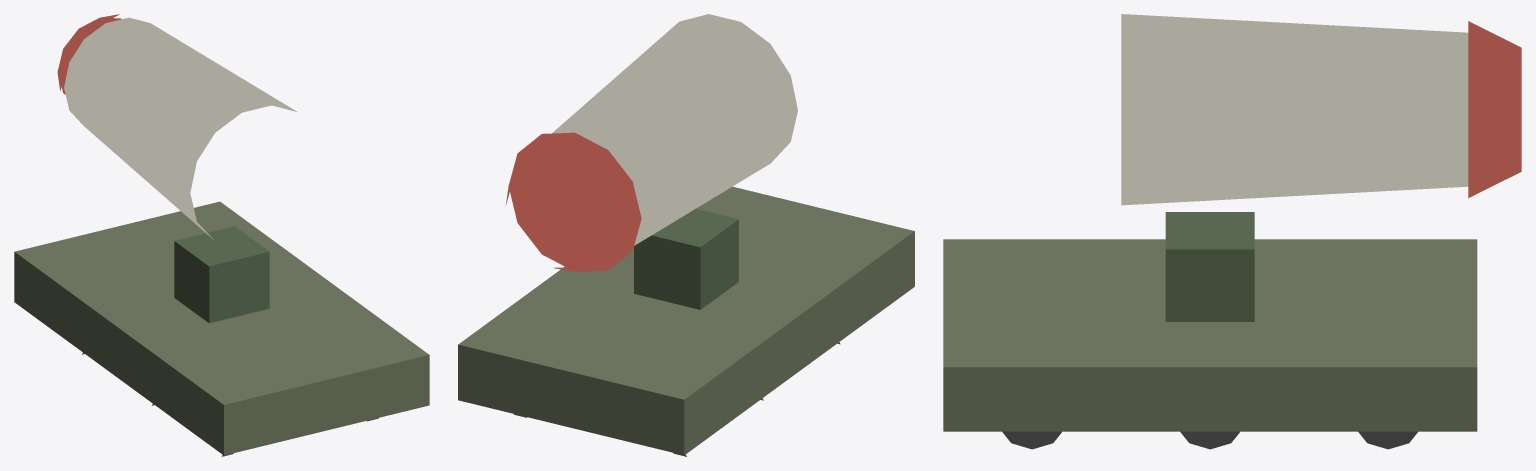
The model's file is i_missile.glb.
The picture shows the model from 3 angles, left to right: view 1: azimuth 30°, elevation 25°; view 2: azimuth 150°, elevation 25°; view 3: azimuth 270°, elevation 25°; orthographic projection. The views are drawn at different scales.
Parts seen in each view (by area): view 1: body; view 2: body; view 3: body.
Part boxes in pixels (bbox=[...]): body: bbox=[14, 14, 429, 456]; body: bbox=[458, 14, 914, 456]; body: bbox=[943, 14, 1521, 449].
Bounding box in the file's own units: 3.4 × 4.77 × 6.5.
